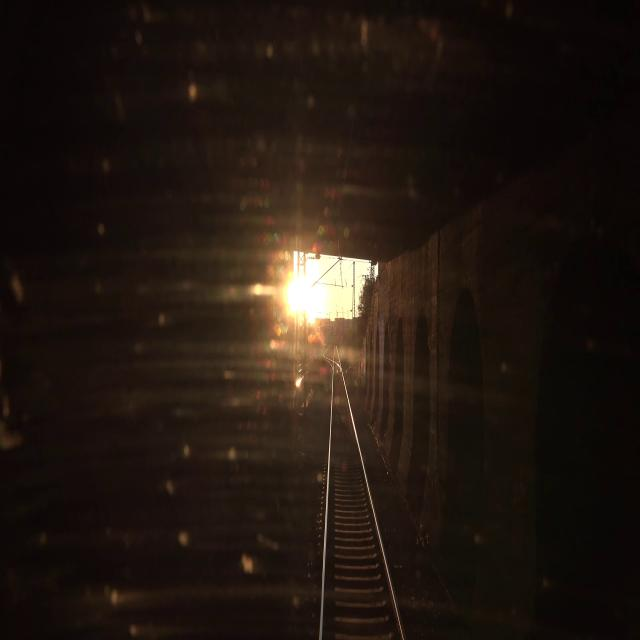rail-track: (324, 366, 401, 639)
